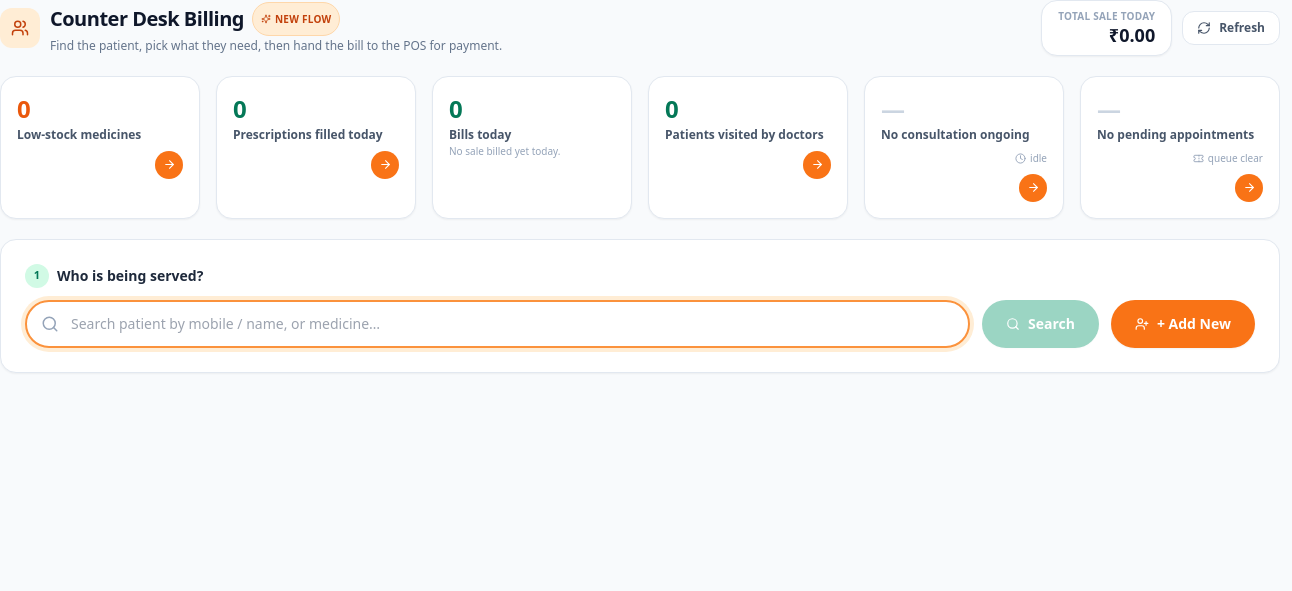
it: counter desk — closing stock gaps from the search results › cannot sell an out-of-stock medicine, but offers to restock it
Step 1. Type "parace" into the search field with placeholder "Search patient by mobile / name, or medicine…" → (498, 324), box top-left (25, 300), bottom-right (970, 348)
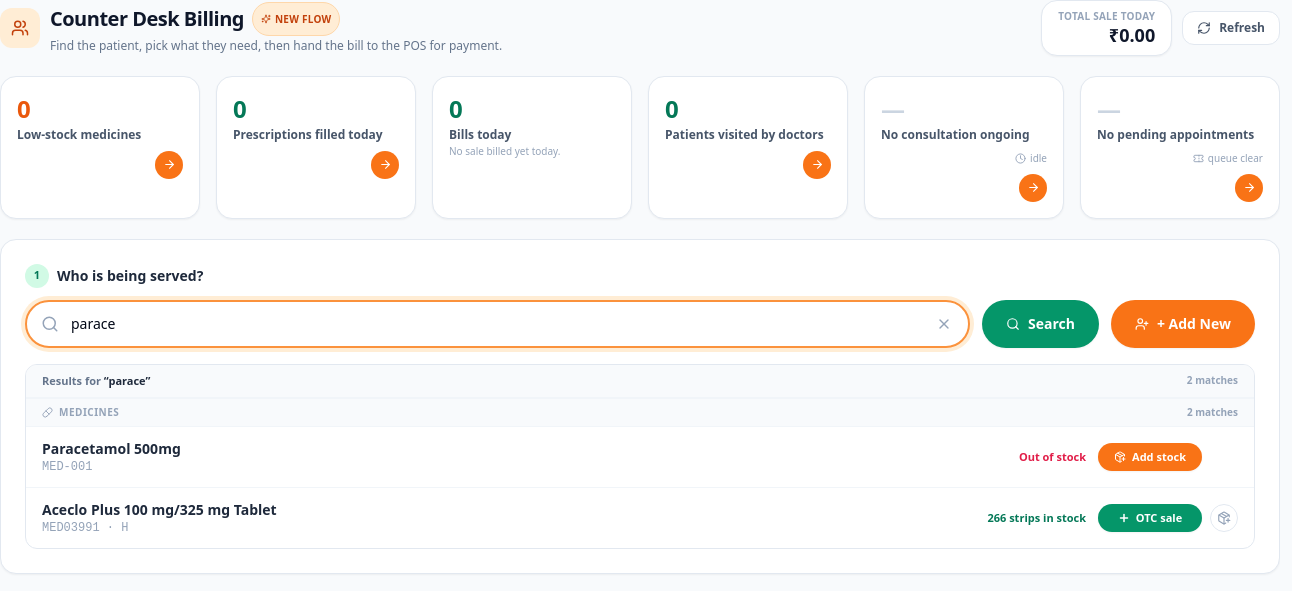
Expected: the text "Paracetamol 500mg" is shown, top-left (42, 439), bottom-right (181, 458)
Expected: the number of buttons "OTC sale" is 1, top-left (1098, 504), bottom-right (1202, 532)
Expected: the button "OTC sale" is enabled, top-left (1098, 504), bottom-right (1202, 532)
